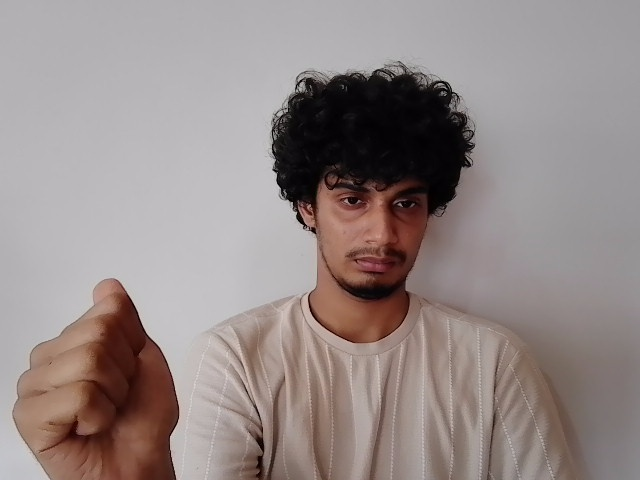how: (18, 280, 187, 480)
